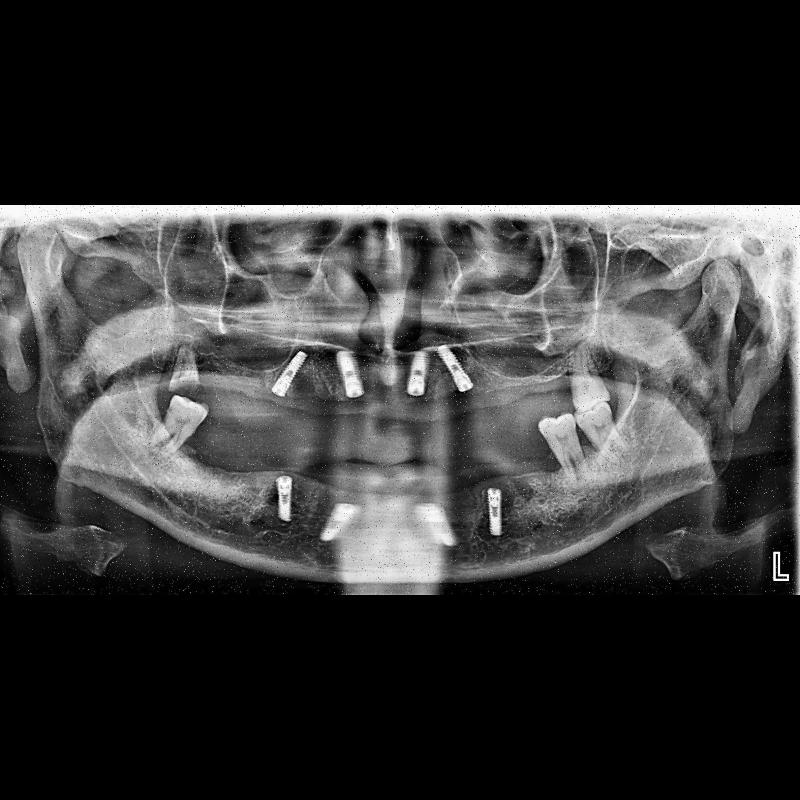osstem: (270, 346, 308, 404), (475, 488, 513, 546), (440, 345, 476, 393), (276, 474, 296, 519)
